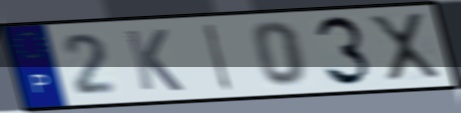0: (249, 19, 312, 89)
2: (63, 31, 121, 98)
3: (310, 14, 373, 88)
I: (202, 22, 235, 94)
K: (122, 27, 186, 93)
X: (365, 11, 445, 85)
